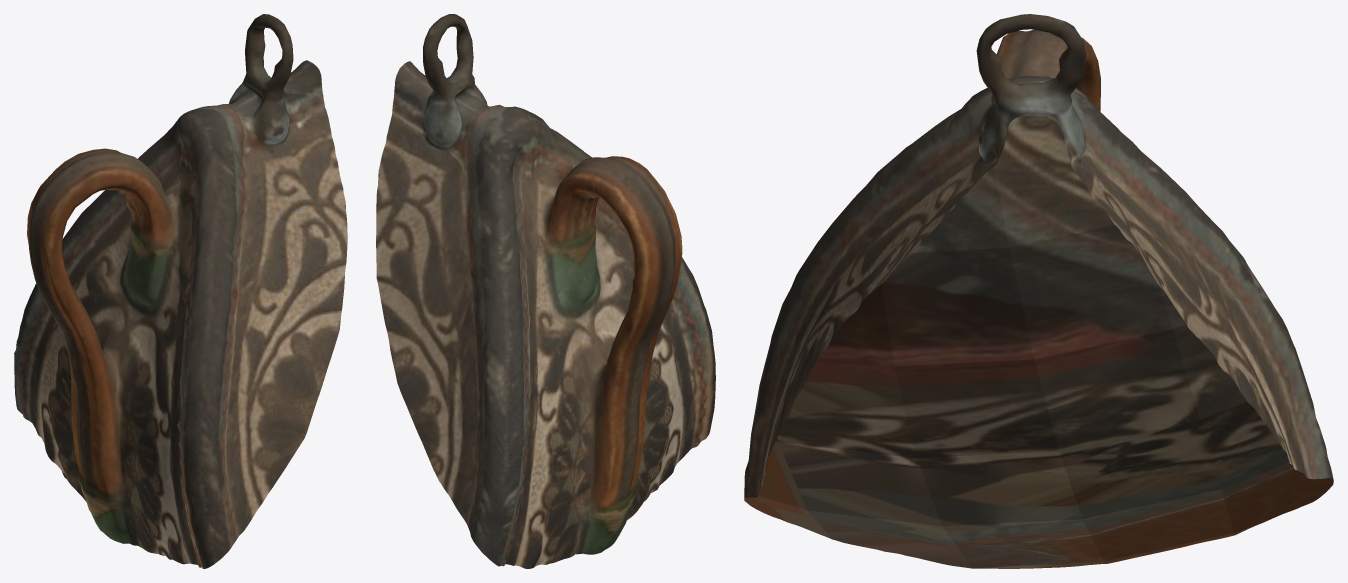
Rendered from Trinkflasche_Eth41G_1.glb.
The picture shows the model from 3 angles, left to right: view 1: azimuth 30°, elevation 25°; view 2: azimuth 150°, elevation 25°; view 3: azimuth 270°, elevation 25°; orthographic projection. The views are drawn at different scales.
Visible parts, largest first — view 1: Mesh_0.013; view 2: Mesh_0.013; view 3: Mesh_0.013.
Part boxes in pixels (left/top/right/bottom): Mesh_0.013: left=14, top=14, right=347, bottom=568; Mesh_0.013: left=376, top=14, right=715, bottom=568; Mesh_0.013: left=744, top=14, right=1333, bottom=568.
Size of the model in its own units: 0.0726 by 0.1216 by 0.0976.
1 material, 1 textured.
